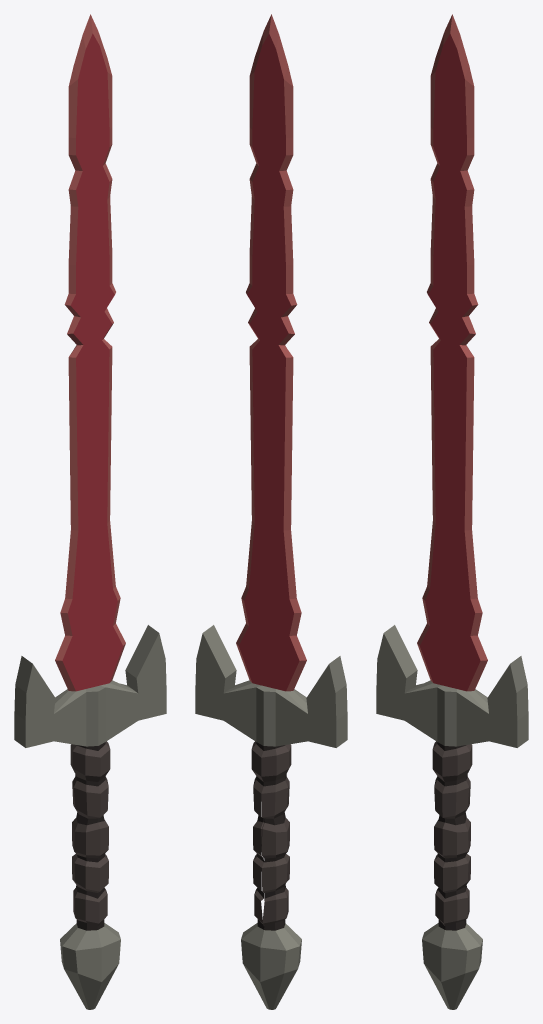
The model's file is Claymore.gltf.
The picture shows the model from 3 angles, left to right: view 1: azimuth 30°, elevation 25°; view 2: azimuth 150°, elevation 25°; view 3: azimuth 330°, elevation 25°; orthographic projection.
Parts seen in each view (by area): view 1: Claymore; view 2: Claymore; view 3: Claymore.
Boxes of the visible parts, x1,y1,x2,y2 form: Claymore: (14,14,166,1009); Claymore: (195,14,347,1009); Claymore: (376,14,528,1009).
Bounding box in the file's own units: 0.9779 × 6.59 × 0.2713.
